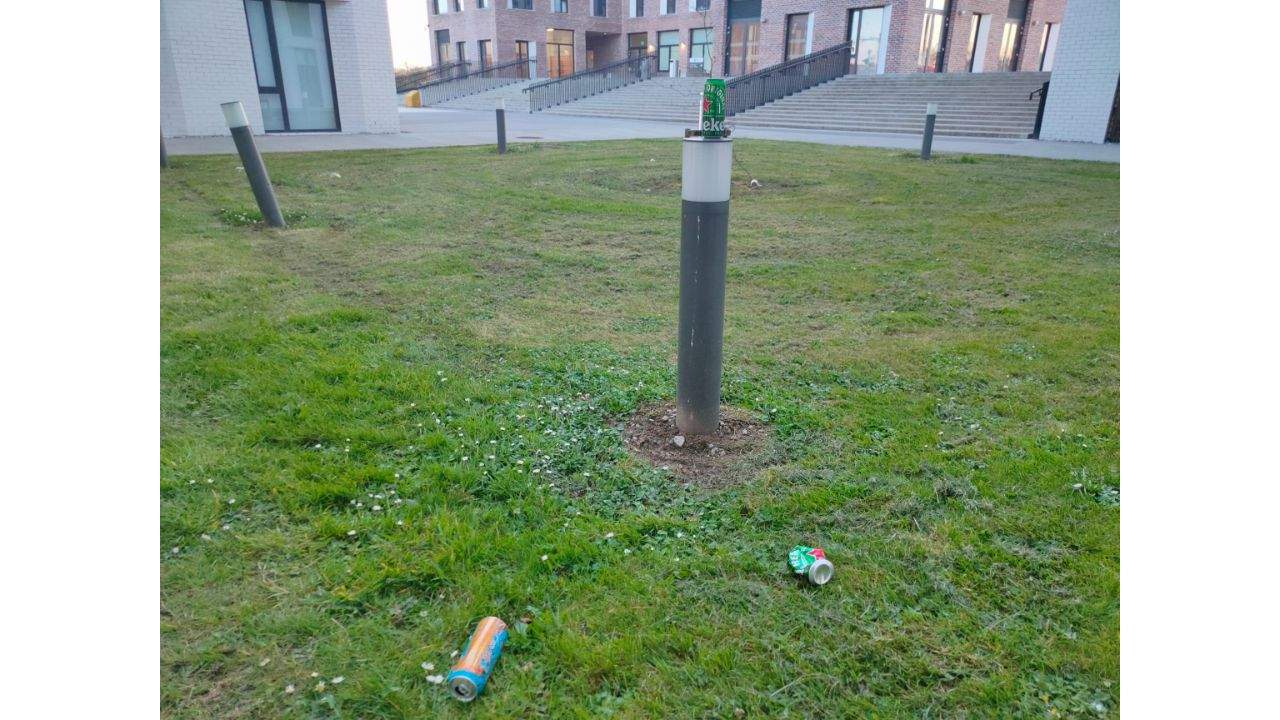Can: (445, 615, 508, 704), (787, 544, 836, 587), (702, 76, 724, 136)
